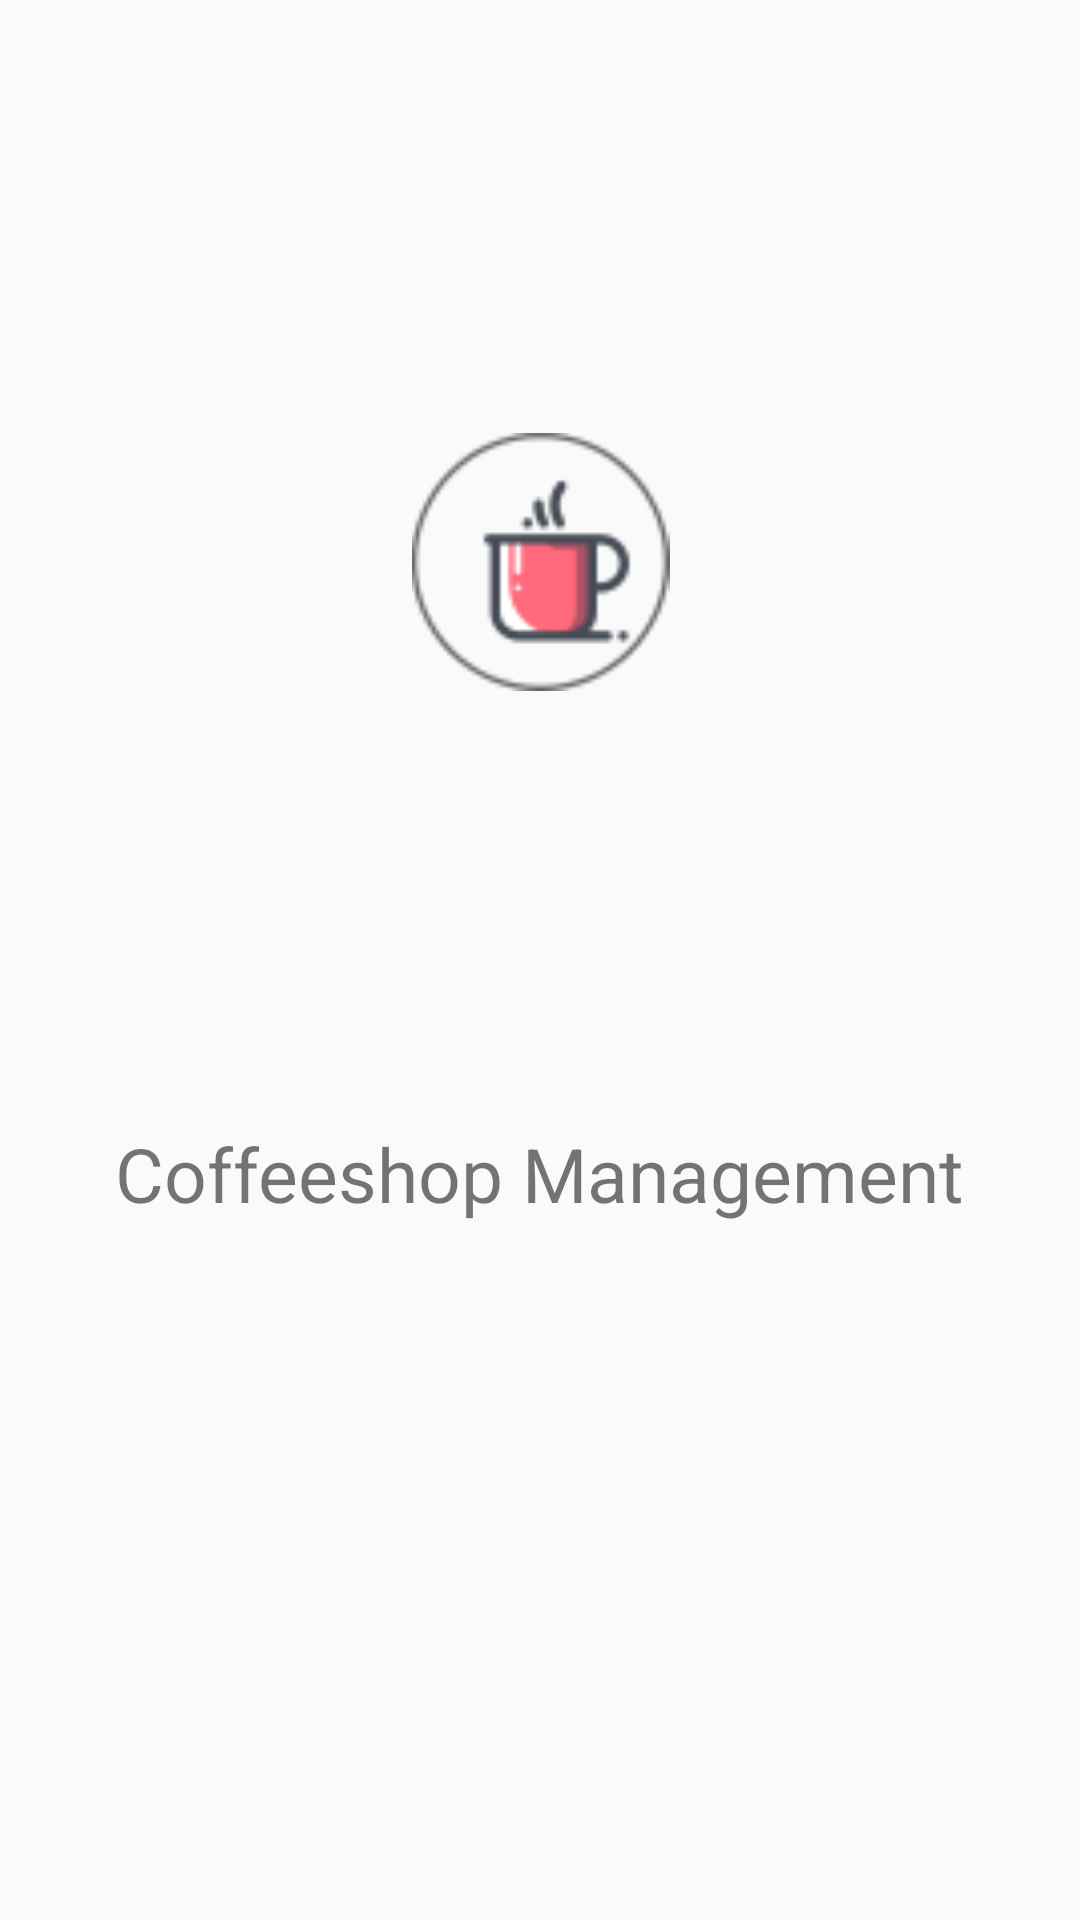

Where to tap for icons on this 1080*1920 app screen, as (x=x, y=y):
cafe: (x=541, y=562)
